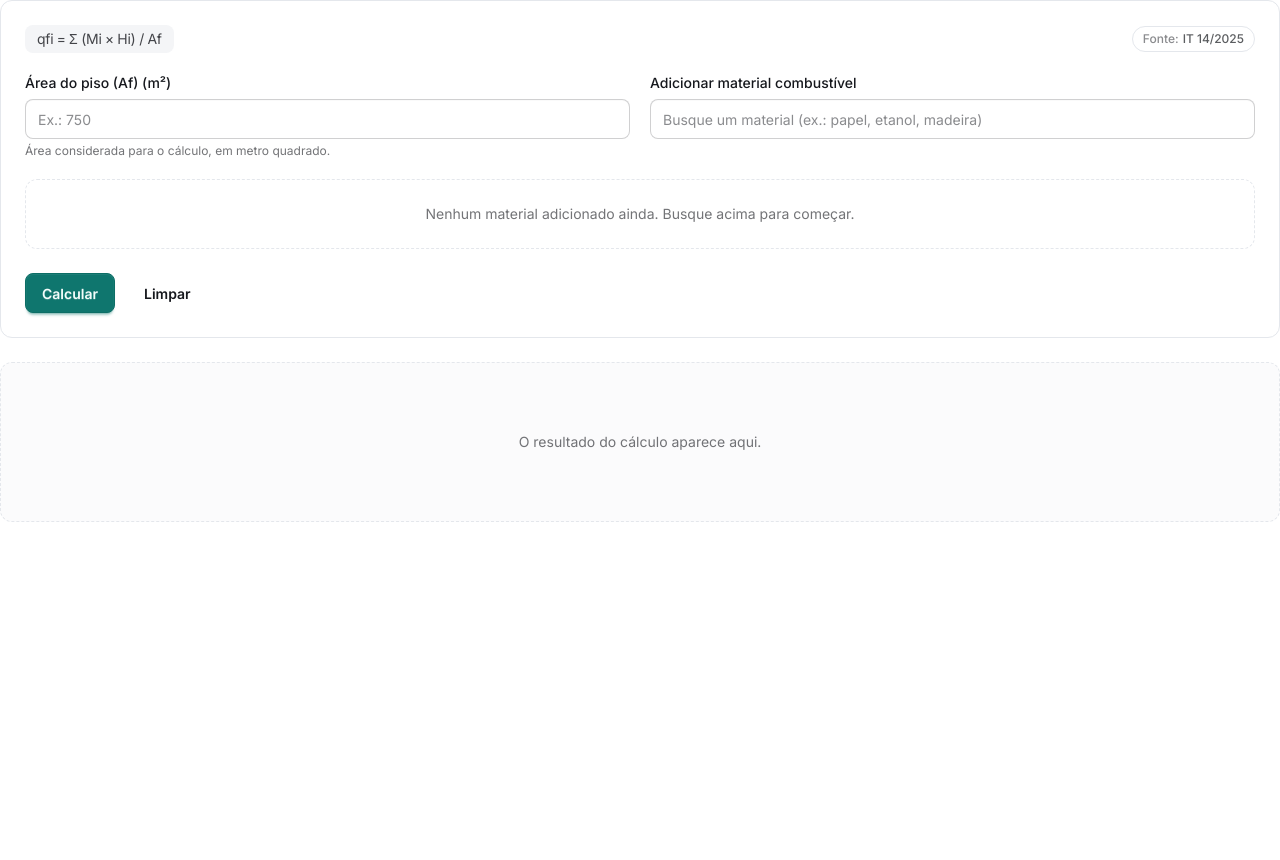
Test: SpecificLoadCalculator › should compute the load and risk from a material and area
This screenshot has width=1280, height=860.
Type "papel" into the search field labelled "Adicionar material combustível" at (952, 119), box [650,99,1255,139]
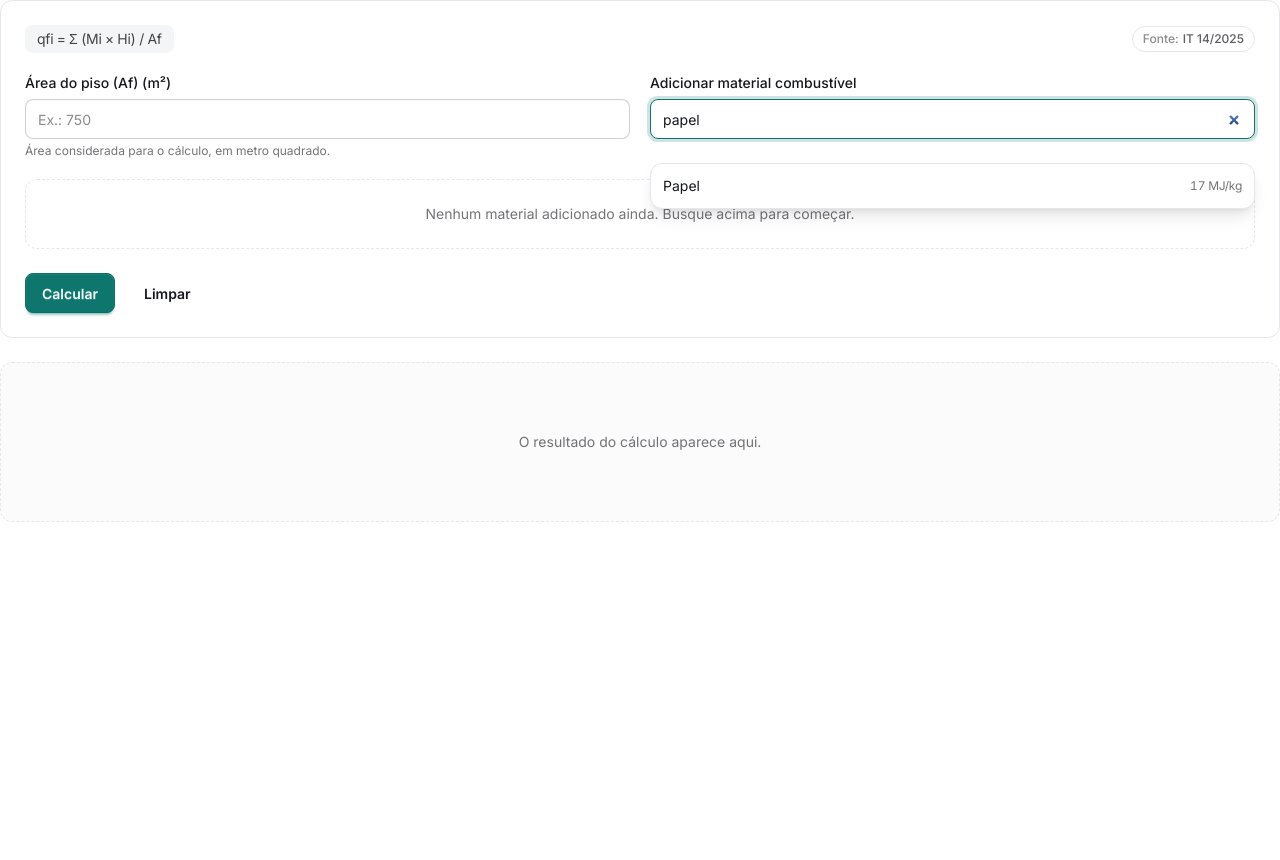
Click the button "Papel 17 MJ/kg" at (681, 186), box [651,164,1254,208]
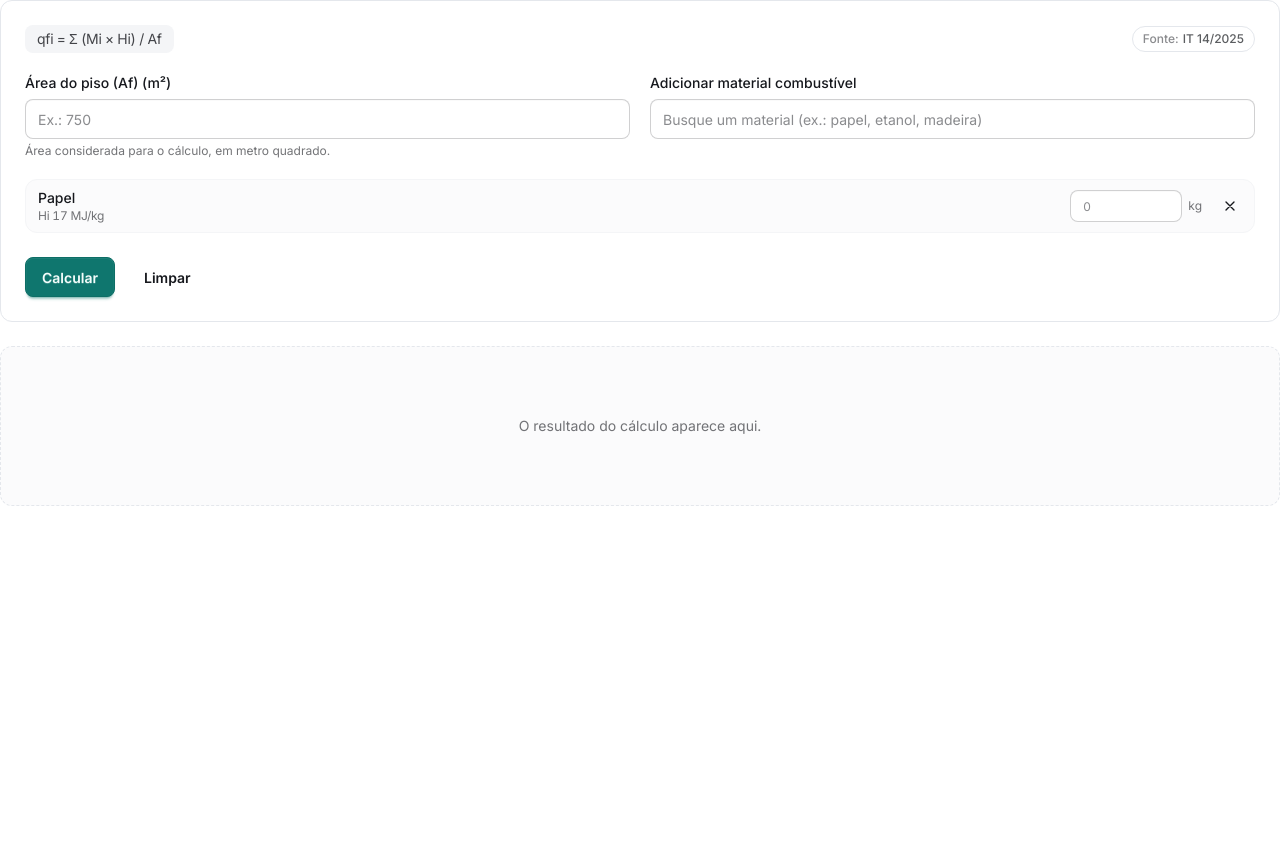
Type "60000" into the field named "Massa" at (1126, 206), box [1070,190,1182,222]
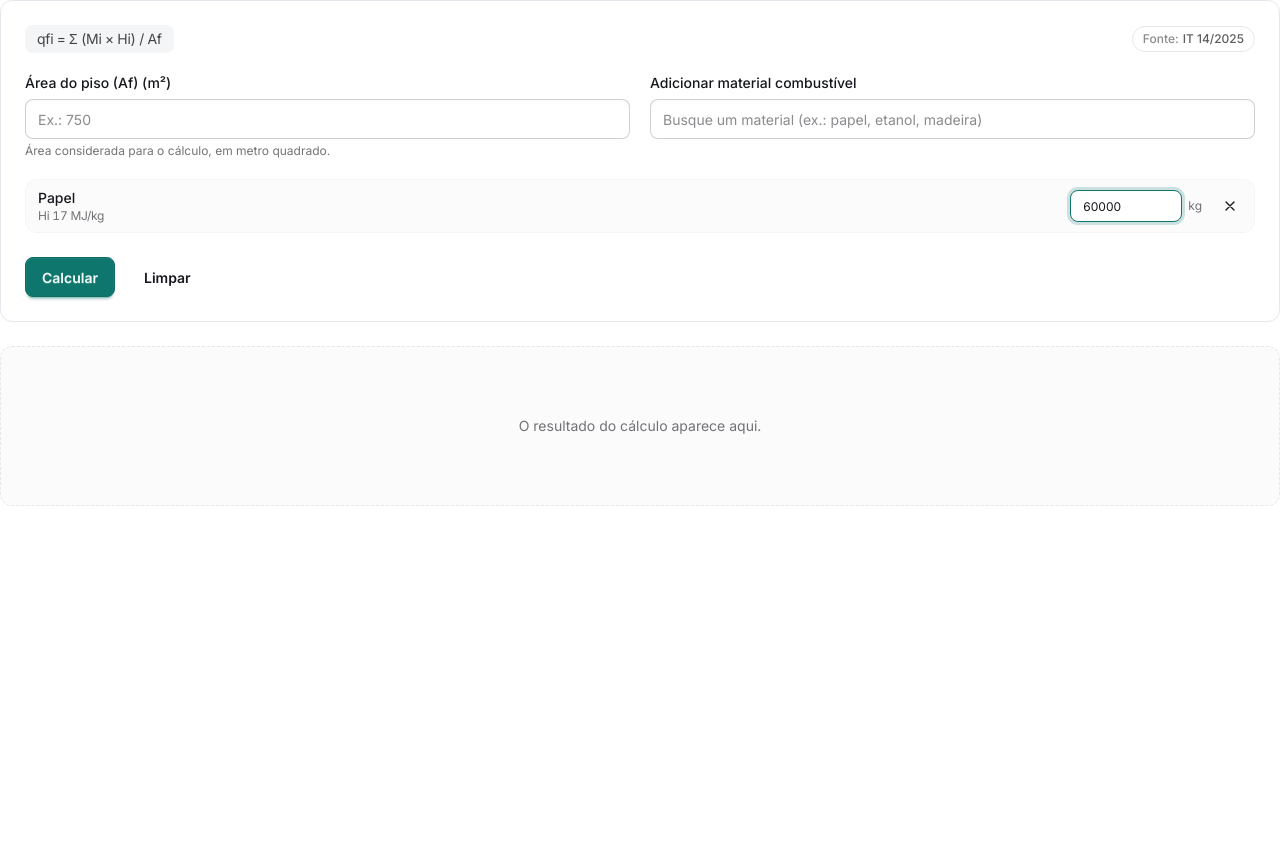
Type "1500" into the field with placeholder "Ex.: 750" at (328, 119), box [25,99,630,139]
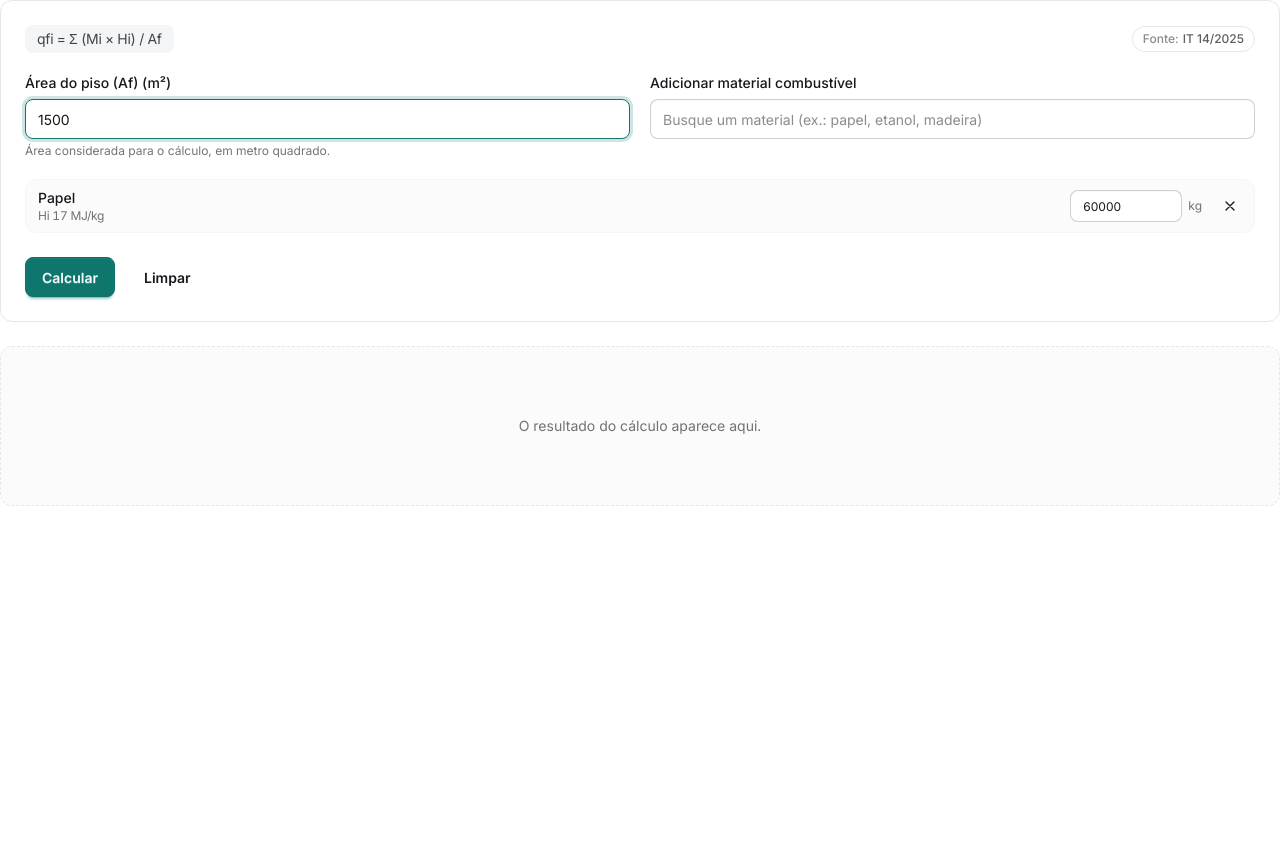
Click the button "Calcular" at (70, 277), box [25,257,115,297]
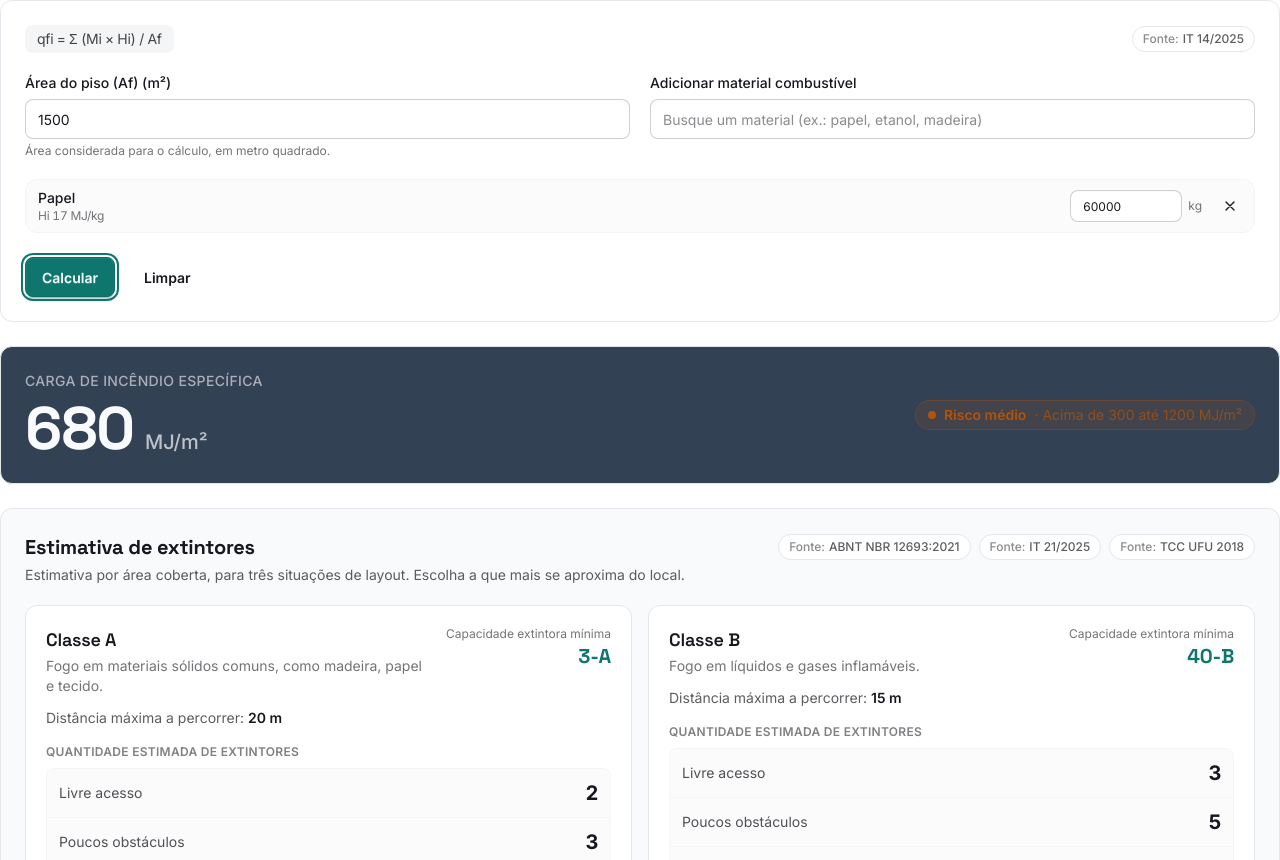
Now the text "Carga de incêndio específica" is shown, box [25,371,263,391]
Now the text "680" is shown, box [25,399,133,459]
Now the text "Risco médio" is shown, box [944,406,1026,423]
